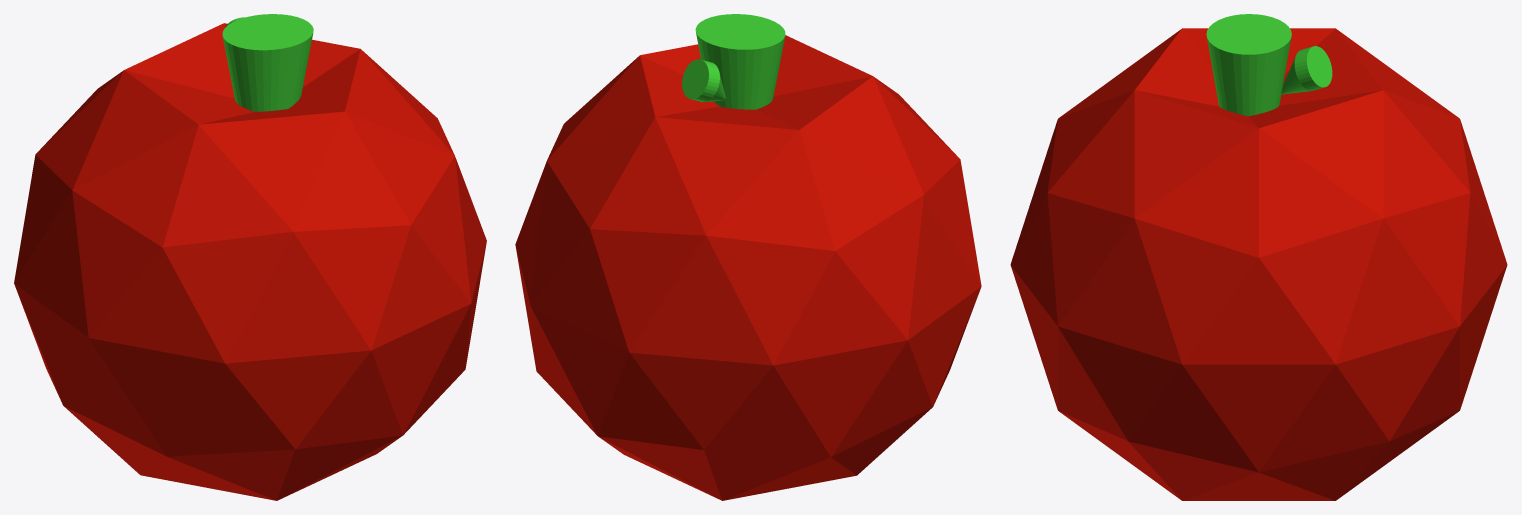
The model's file is tomatitos2.fbx.
The picture shows the model from 3 angles, left to right: view 1: azimuth 30°, elevation 25°; view 2: azimuth 150°, elevation 25°; view 3: azimuth 270°, elevation 25°; orthographic projection. The views are drawn at different scales.
Visible parts, largest first — view 1: Cylinder; view 2: Cylinder; view 3: Cylinder.
Part boxes in pixels (box(x1,y1,x2,y2)): Cylinder: box(14, 14, 486, 500); Cylinder: box(515, 14, 981, 500); Cylinder: box(1010, 14, 1507, 500).
Bounding box in the file's own units: 41.31 × 44.54 × 43.43.
